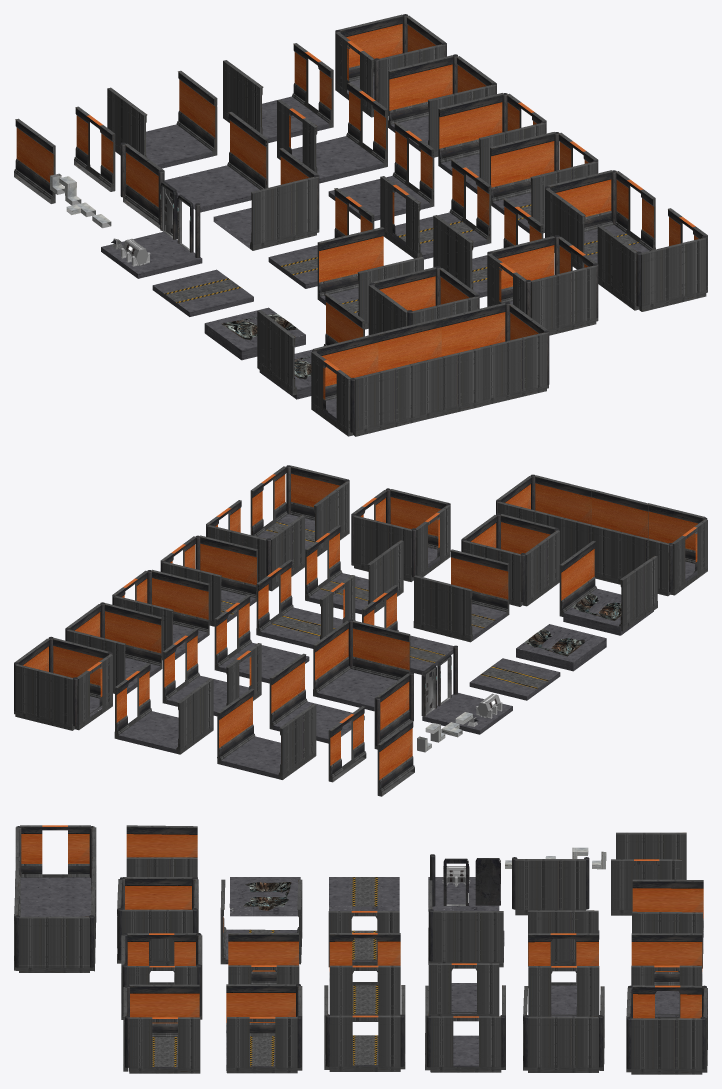
The model's file is LevelDesignKit.fbx.
3 renders of one model, top to bottom at view 1: azimuth 30°, elevation 25°; view 2: azimuth 150°, elevation 25°; view 3: azimuth 270°, elevation 25°, orthographic. The views are drawn at different scales.
Visible parts, largest first — view 1: LongClosedHallway, Wall_Airlock, Wall_HallwayEndDoor_Path_Left, Wall_HallwayEndDoor_Path_Right, Wall_RoomDoor, Wall_Hallway, Wall_HallwayEndDoor_Path, Wall_HallwayEnd, Wall_HallwayEndDoor, Wall_CornerSegment, Wall_TwoDoors, Wall_HallwayDoor (+15 smaller); view 2: LongClosedHallway, Wall_RoomDoor, Wall_CornerSegment, Wall_Airlock, Wall_Hallway_Path, HallwayDebrisRamp, Wall_HallwayEndDoor_Path_Left, EnclosedRoom, Wall_Hallway, Wall_HallwayDoor, Wall_HallwayEnd, Wall_HallwayEndDoor_Path (+15 smaller); view 3: LongClosedHallway, Wall_HallwayEndDoor_Path_Left, Wall_HallwayEndDoor_Path_Right, Wall_RoomDoor, EnclosedRoom, Wall_TwoDoors_Path, Wall_TwoDoors, Wall_HallwayEnd, Wall_HallwayEndDoor_Path, Wall_HallwayDoor, Wall_HallwayEndDoor, Wall_CornerSegment (+17 smaller).
Boxes of the visible parts, x1,y1,x2,y2 form: LongClosedHallway: (311, 302, 549, 436); Wall_Airlock: (487, 235, 598, 335); Wall_HallwayEndDoor_Path_Left: (597, 208, 707, 311); Wall_HallwayEndDoor_Path_Right: (545, 170, 655, 269); Wall_RoomDoor: (335, 14, 446, 117); Wall_Hallway: (107, 70, 217, 168); Wall_HallwayEndDoor_Path: (490, 132, 598, 233); Wall_HallwayEnd: (388, 54, 496, 157); Wall_HallwayEndDoor: (438, 93, 546, 193); Wall_CornerSegment: (213, 148, 319, 250); Wall_TwoDoors: (277, 82, 387, 183); Wall_HallwayDoor: (223, 43, 333, 142); LongClosedHallway: (496, 474, 707, 596); Wall_RoomDoor: (14, 636, 112, 730); Wall_CornerSegment: (313, 619, 410, 711); Wall_Airlock: (351, 488, 450, 581); Wall_Hallway_Path: (413, 549, 509, 642); HallwayDebrisRamp: (559, 541, 657, 635); Wall_HallwayEndDoor_Path_Left: (250, 465, 349, 556); EnclosedRoom: (461, 513, 559, 606); Wall_Hallway: (217, 688, 316, 779); Wall_HallwayDoor: (114, 663, 213, 754); Wall_HallwayEnd: (65, 602, 162, 693); Wall_HallwayEndDoor_Path: (160, 535, 257, 626); LongClosedHallway: (14, 825, 96, 972); Wall_HallwayEndDoor_Path_Left: (123, 984, 200, 1073); Wall_HallwayEndDoor_Path_Right: (226, 984, 302, 1073); Wall_RoomDoor: (626, 985, 707, 1074); EnclosedRoom: (117, 877, 198, 965); Wall_TwoDoors_Path: (329, 933, 400, 1021); Wall_TwoDoors: (528, 933, 599, 1016); Wall_HallwayEnd: (523, 986, 604, 1072); Wall_HallwayEndDoor_Path: (324, 985, 405, 1071); Wall_HallwayDoor: (631, 933, 702, 1018); Wall_HallwayEndDoor: (425, 985, 505, 1072); Wall_CornerSegment: (428, 880, 504, 967).
Bounding box in the file's own units: 18287 × 2644 × 27463.
